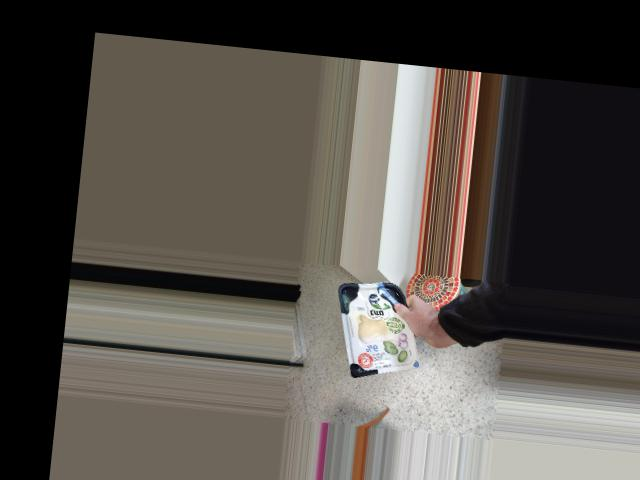cheese: (329, 276, 427, 379)
